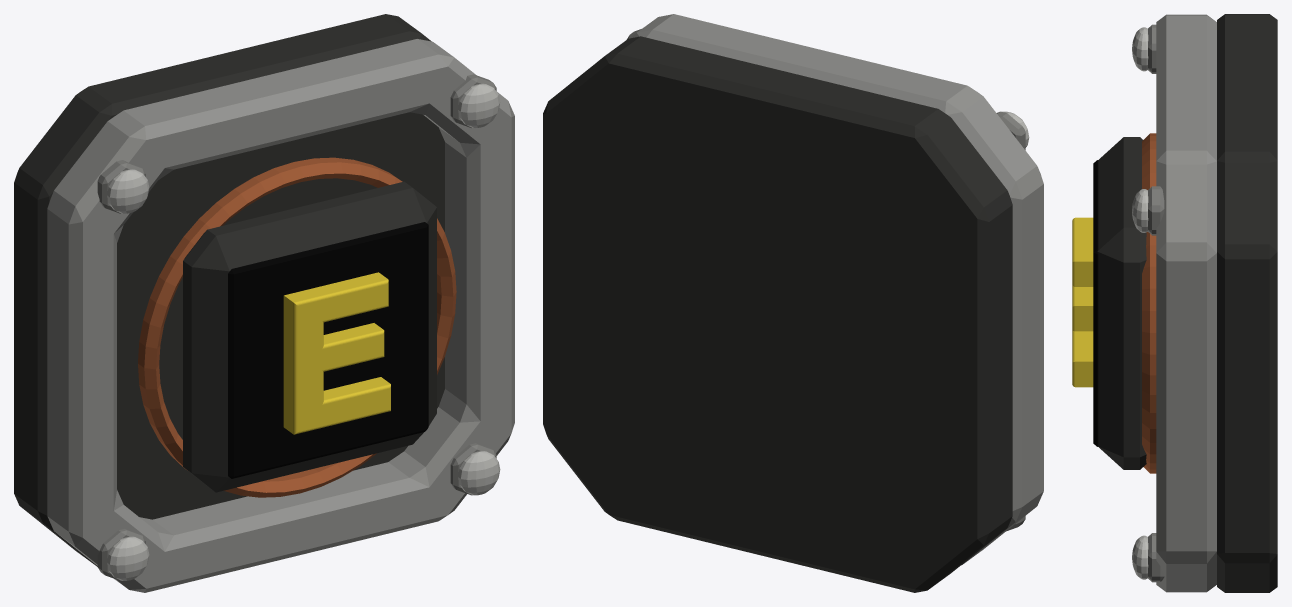
The model's file is InteractKey_E.fbx.
3 renders of one model, left to right at view 1: azimuth 30°, elevation 25°; view 2: azimuth 150°, elevation 25°; view 3: azimuth 270°, elevation 25°, orthographic. The views are drawn at different scales.
Visible parts, largest first — view 1: Base_Marco, Base_Fondo, Tecla_Cara, Tecla, Aro, Letra_E, Base_Panel, Bulon.003, Bulon, Bulon.001, Bulon.002, Bulon_Base.003 (+3 smaller); view 2: Base_Fondo, Base_Marco; view 3: Base_Fondo, Base_Marco, Tecla, Aro, Letra_E, Tecla_Cara, Bulon_Base.002, Bulon.002, Bulon.001, Bulon.003, Bulon_Base.001, Bulon_Base.003.
Part boxes in pixels (box(x1,y1,x2,y2)): Base_Marco: box(47, 39, 514, 592); Base_Fondo: box(14, 14, 444, 566); Tecla_Cara: box(228, 222, 428, 478); Tecla: box(183, 181, 436, 492); Aro: box(138, 157, 456, 497); Letra_E: box(283, 272, 390, 434); Base_Panel: box(117, 113, 439, 498); Bulon.003: box(107, 169, 149, 213); Bulon: box(107, 536, 149, 580); Bulon.001: box(458, 451, 500, 495); Bulon.002: box(458, 83, 500, 128); Bulon_Base.003: box(97, 160, 145, 213); Base_Fondo: box(543, 36, 1012, 592); Base_Marco: box(630, 14, 1043, 565); Base_Fondo: box(1217, 14, 1277, 592); Base_Marco: box(1156, 14, 1216, 592); Tecla: box(1097, 137, 1146, 469); Aro: box(1142, 133, 1156, 473); Letra_E: box(1072, 217, 1093, 387); Tecla_Cara: box(1093, 160, 1098, 446); Bulon_Base.002: box(1148, 186, 1164, 235); Bulon.002: box(1132, 189, 1148, 232); Bulon.001: box(1132, 535, 1148, 579); Bulon.003: box(1132, 27, 1148, 71); Bulon_Base.001: box(1148, 533, 1164, 582); Bulon_Base.003: box(1148, 24, 1156, 73).
Size of the model in its own units: 0.24 by 0.24 by 0.1014.
